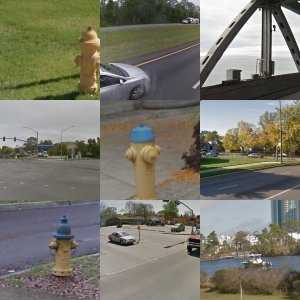公車: (240, 201, 300, 299), (142, 14, 200, 60), (17, 44, 69, 80)
樓梯: (216, 150, 286, 199), (224, 105, 283, 150)
汽車: (136, 141, 158, 158), (151, 265, 174, 280), (17, 170, 39, 184), (71, 173, 91, 186)
